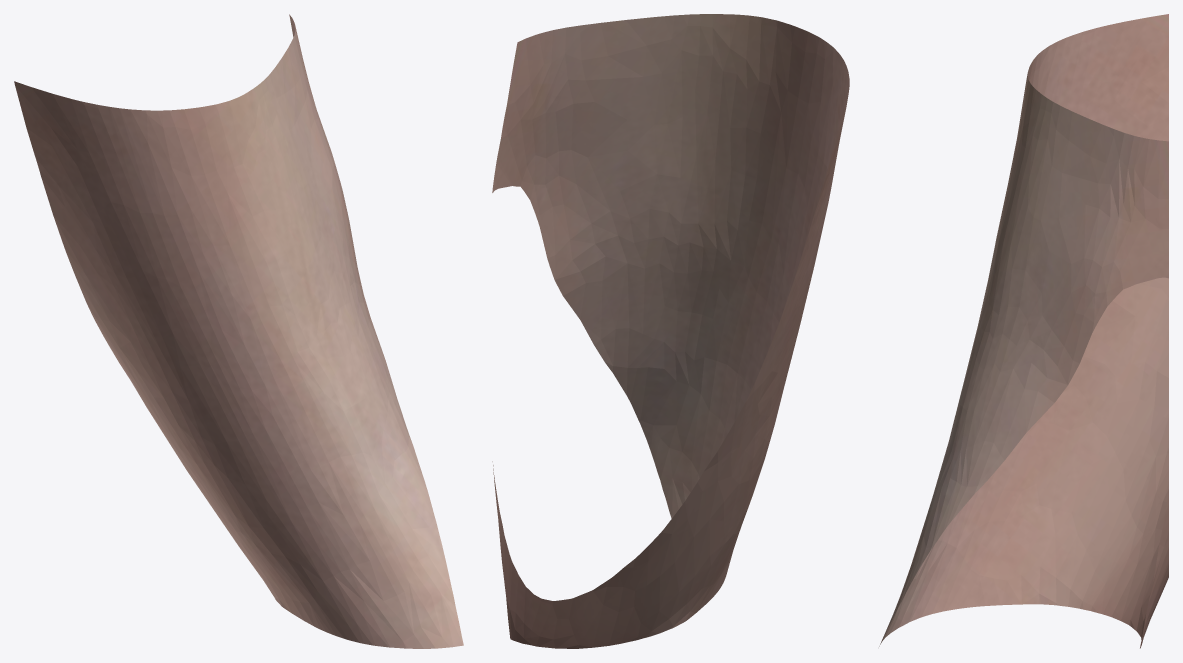
3 views of the same model, side by side, from view 1: azimuth 30°, elevation 25°; view 2: azimuth 150°, elevation 25°; view 3: azimuth 270°, elevation 25° (orthographic). The views are drawn at different scales.
Visible parts, largest first — view 1: 091_W_Aya_100K_01; view 2: 091_W_Aya_100K_01; view 3: 091_W_Aya_100K_01.
Part boxes in pixels (x1,y1,x2,y2): 091_W_Aya_100K_01: (14, 14, 463, 648); 091_W_Aya_100K_01: (492, 14, 849, 648); 091_W_Aya_100K_01: (879, 14, 1168, 648).
Bounding box in the file's own units: 101 × 171 × 90.78.
1 material, 1 textured.
